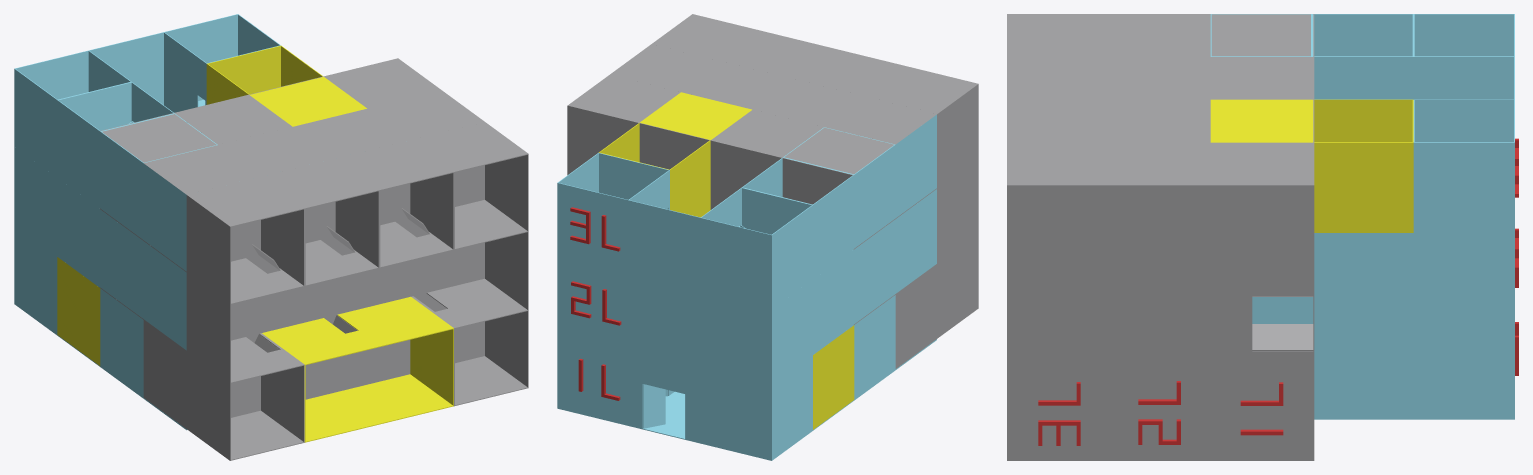
Rendered from 第十二组.glb.
3 renders of one model, left to right at view 1: azimuth 30°, elevation 25°; view 2: azimuth 150°, elevation 25°; view 3: azimuth 270°, elevation 25°, orthographic. The views are drawn at different scales.
Bounding box in the file's own units: 0.0202 × 0.0151 × 0.0252.
